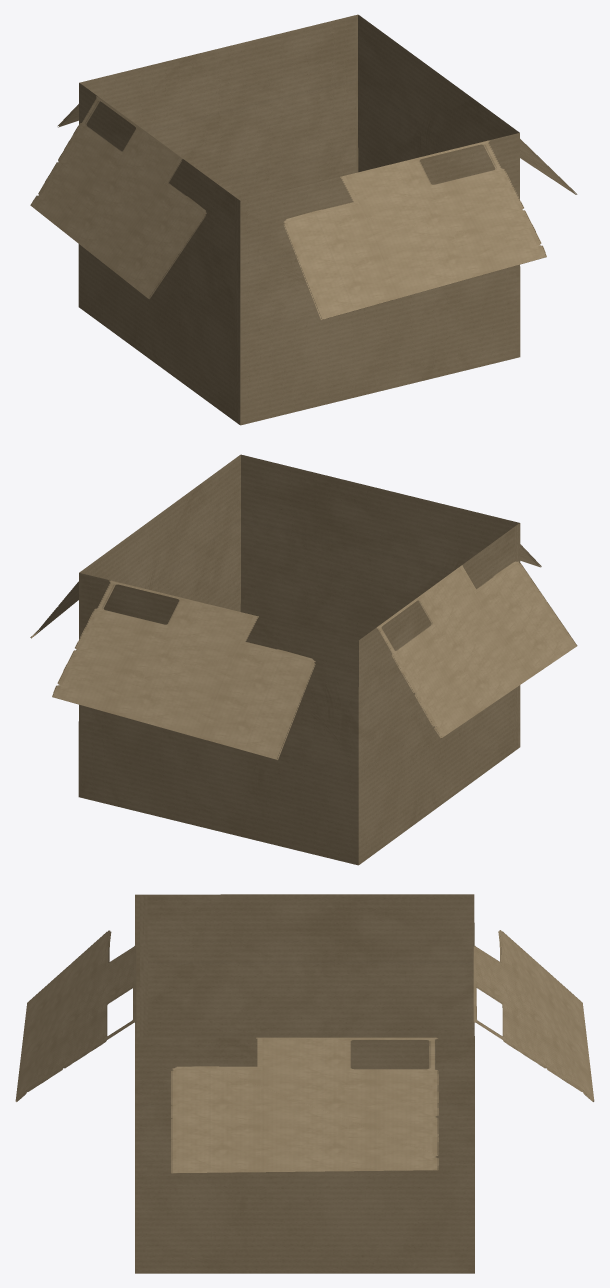
File: Elec_lost and found.fbx
The picture shows the model from 3 angles, top to bottom: view 1: azimuth 30°, elevation 25°; view 2: azimuth 150°, elevation 25°; view 3: azimuth 270°, elevation 25°; orthographic projection. The views are drawn at different scales.
Visible parts, largest first — view 1: Cube; view 2: Cube; view 3: Cube.
Part boxes in pixels (x1,y1,x2,y2): Cube: (30,14,577,425); Cube: (30,454,577,865); Cube: (15,894,594,1273).
Size of the model in its own units: 308 by 153 by 343.
1 material, 1 textured.
